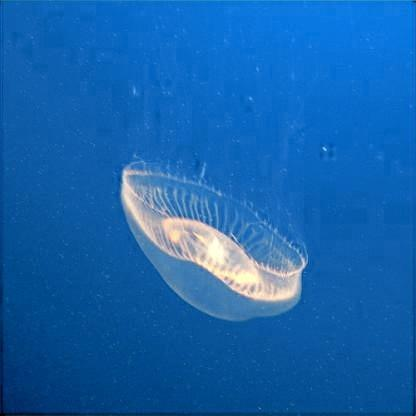FriedEggs: (120, 89, 310, 325)
